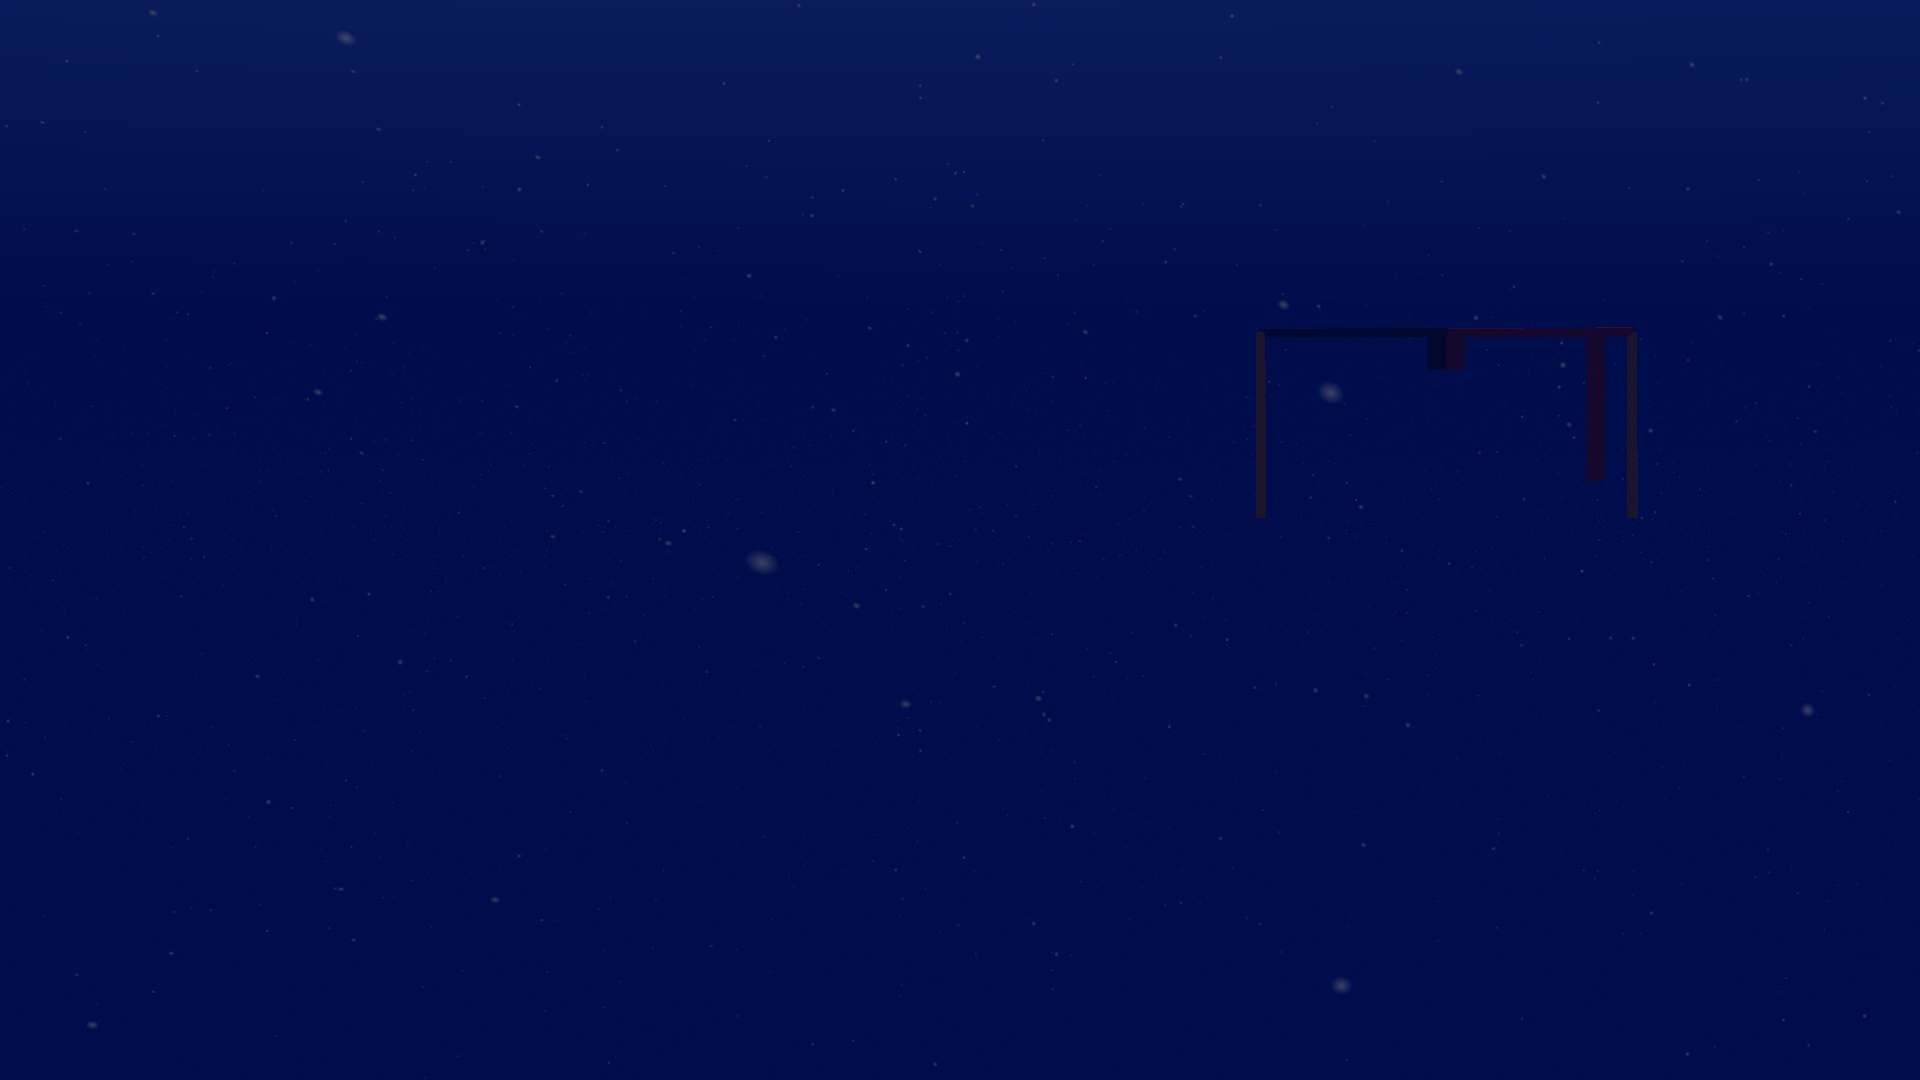Gate: (1250, 323, 1648, 527)
